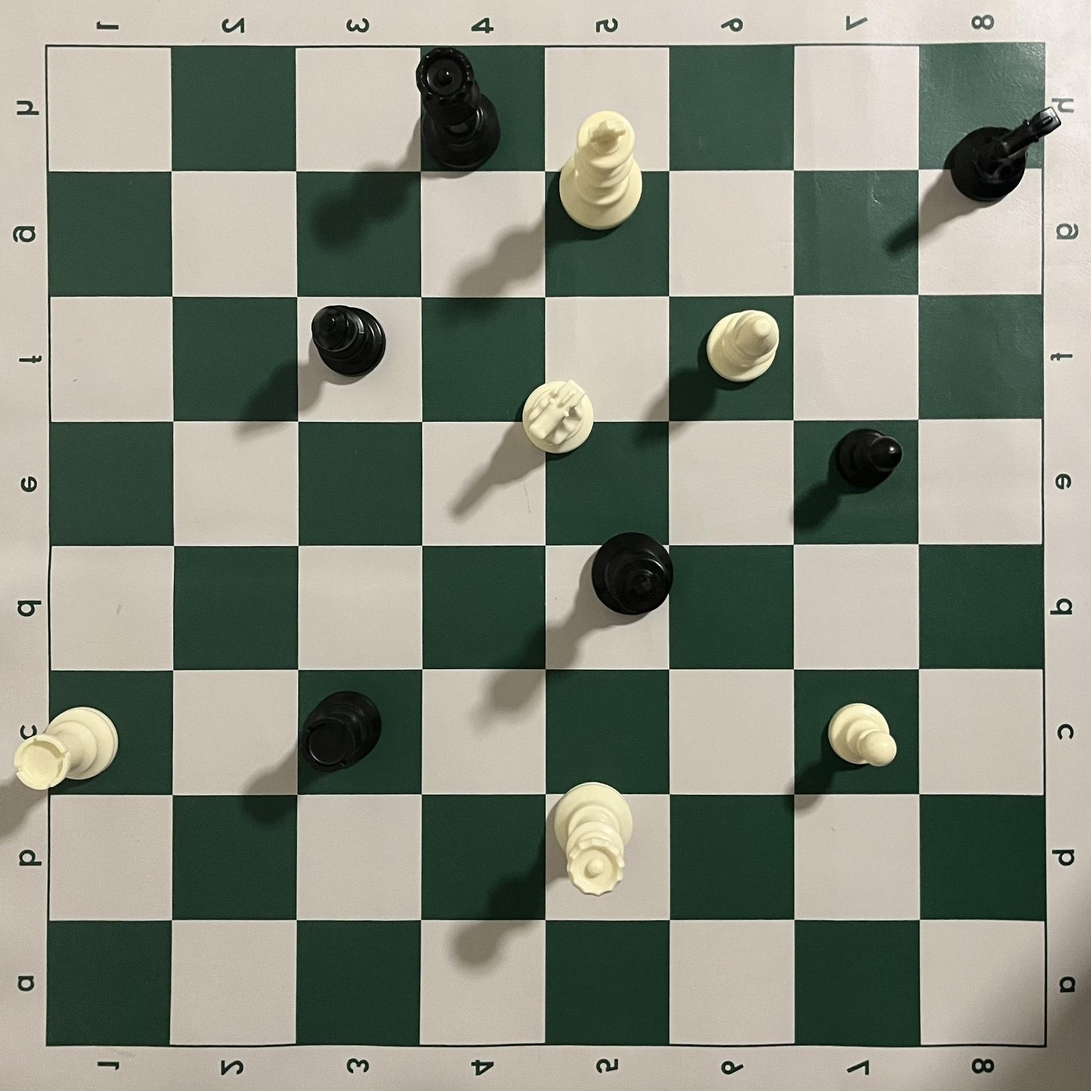black_bishop: (310, 305, 386, 378)
black_king: (591, 532, 674, 617)
black_knight: (949, 106, 1062, 202)
black_pawn: (834, 428, 904, 493)
black_queen: (416, 47, 501, 172)
black_rook: (298, 690, 382, 774)
white_bishop: (705, 310, 779, 384)
white_king: (558, 110, 643, 231)
white_knight: (521, 380, 595, 455)
white_pawn: (828, 702, 897, 768)
white_queen: (552, 782, 634, 897)
white_rook: (13, 706, 119, 791)
